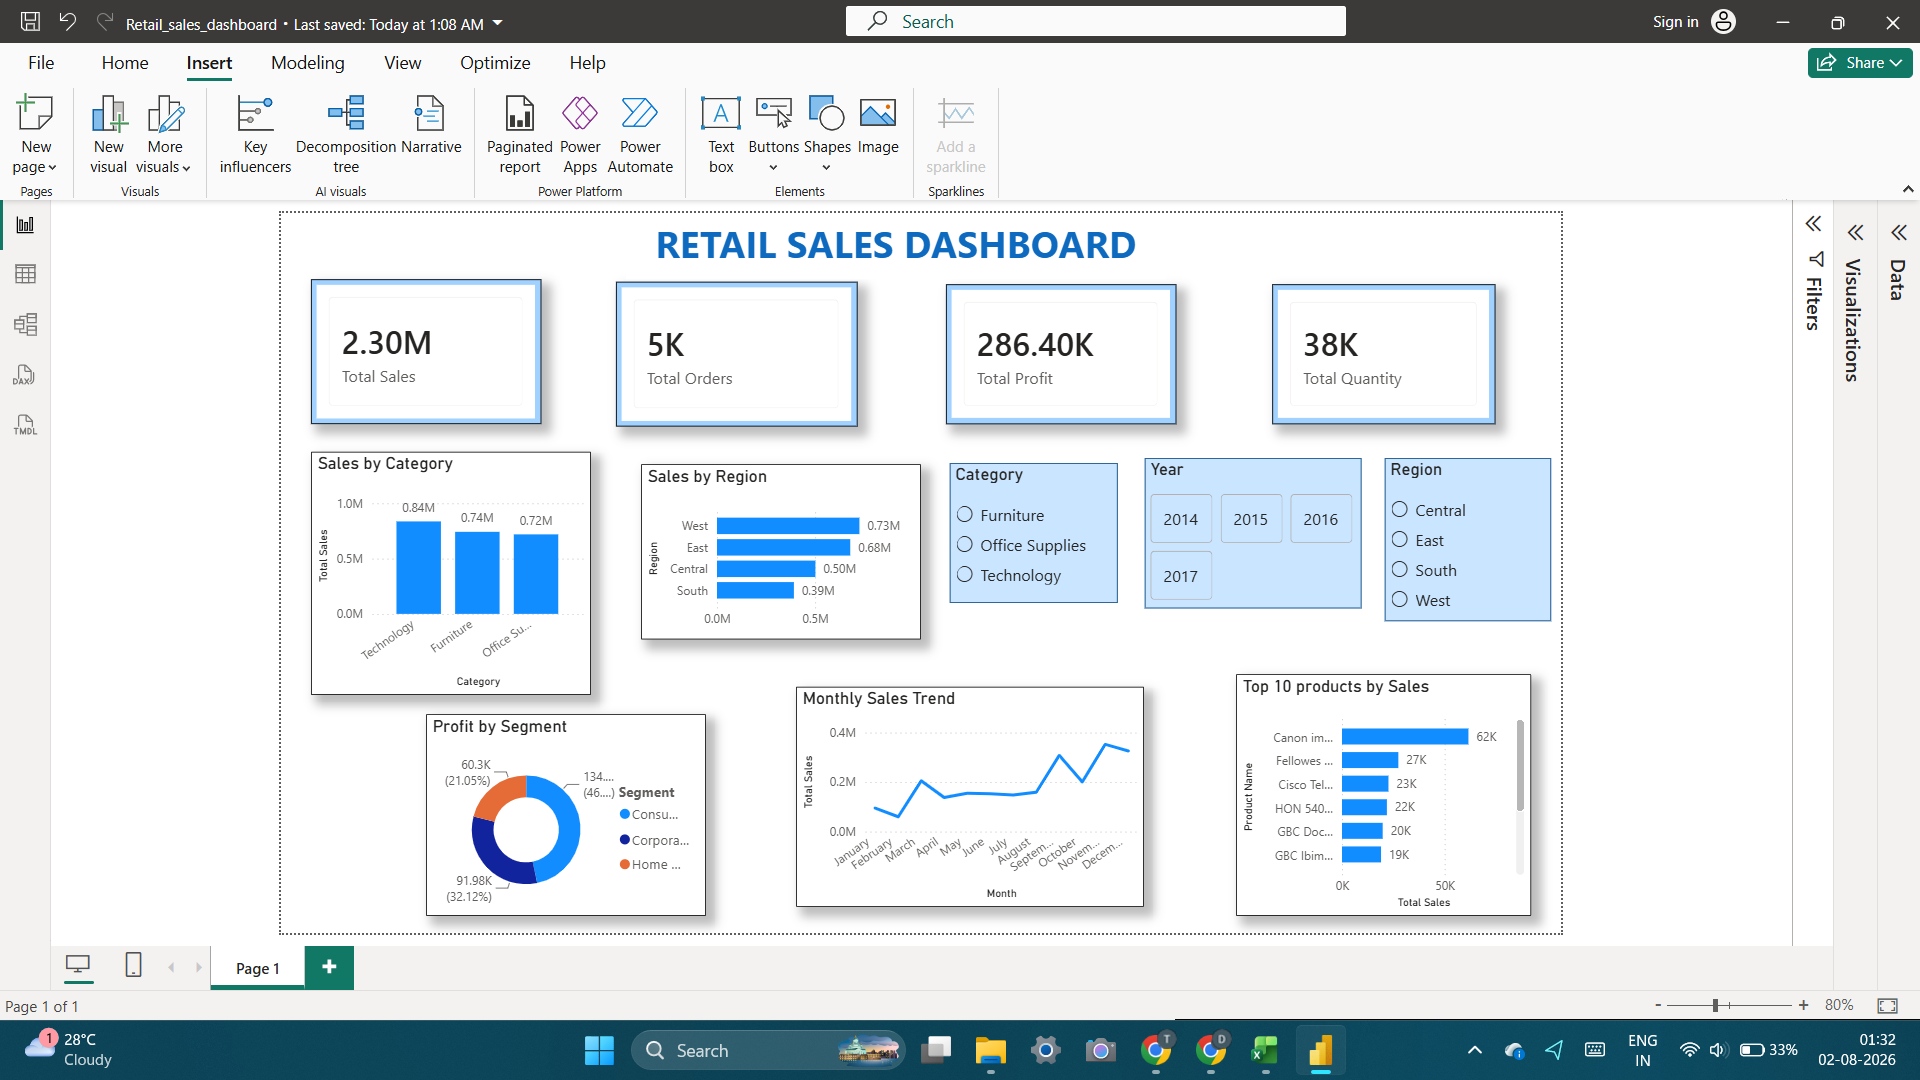

Layout of this report page (visuals, bound fields, positions):
{"tool":"powerbi","page":{"name":"Page 1","canvas":[1280,720],"ordinal":0},"visuals":[{"type":"cardVisual","fields":{"Data":["Table1.Total Sales"]},"box":[30,66.7,230,145],"z":0},{"type":"cardVisual","fields":{"Data":["Table1.Total Profit"]},"box":[665,71.7,230,140],"z":1000},{"type":"cardVisual","fields":{"Data":["Table1.Total Quantity"]},"box":[991.7,71.7,223.3,140],"z":2000},{"type":"cardVisual","fields":{"Data":["Table1.Total Orders"]},"box":[335,68.3,241.7,145],"z":3000},{"type":"clusteredColumnChart","title":" Sales by Category","fields":{"Category":["Table1.Category"],"Y":["Table1.Total Sales"]},"box":[30,238.3,280,243.3],"z":4000},{"type":"clusteredBarChart","title":"Sales by Region","fields":{"Y":["Table1.Total Sales"],"Category":["Table1.Region"]},"box":[360,251.7,280,175],"z":5000},{"type":"lineChart","title":"Monthly Sales Trend","fields":{"Category":["Table1.Order Date.Variation.Date Hierarchy.Month"],"Y":["Table1.Total Sales"]},"box":[515,473.3,348.3,220],"z":6000},{"type":"donutChart","title":"Profit by Segment","fields":{"Y":["Table1.Total Profit"],"Category":["Table1.Segment"]},"box":[145,501.7,280,201.7],"z":7000},{"type":"barChart","title":"Top 10 products by Sales","fields":{"Category":["Table1.Product Name"],"Y":["Table1.Total Sales"]},"box":[955,461.7,295,241.7],"z":8000},{"type":"listSlicer","fields":{"Values":["Table1.Region"]},"box":[1103.3,245,166.7,163.3],"z":9000},{"type":"listSlicer","fields":{"Values":["Table1.Category"]},"box":[668.3,250,168.3,140],"z":10000},{"type":"advancedSlicerVisual","fields":{"Values":["Table1.Order Date.Variation.Date Hierarchy.Year"]},"box":[863.3,245,216.7,150],"z":11000},{"type":"textbox","box":[345,0,540,66.7],"z":12000}]}

Visuals, with their boxes on the page's 1280x720 design canvas (x1, y1, x2, y2). These are canvas units, not pixel positions in the 1920x1080 screenshot, which may show the page scaled, cropped or inside an application window:
cardVisual - Table1.Total Sales: (x1=30, y1=67, x2=260, y2=212)
cardVisual - Table1.Total Profit: (x1=665, y1=72, x2=895, y2=212)
cardVisual - Table1.Total Quantity: (x1=992, y1=72, x2=1215, y2=212)
cardVisual - Table1.Total Orders: (x1=335, y1=68, x2=577, y2=213)
" Sales by Category" clusteredColumnChart: (x1=30, y1=238, x2=310, y2=482)
"Sales by Region" clusteredBarChart: (x1=360, y1=252, x2=640, y2=427)
"Monthly Sales Trend" lineChart: (x1=515, y1=473, x2=863, y2=693)
"Profit by Segment" donutChart: (x1=145, y1=502, x2=425, y2=703)
"Top 10 products by Sales" barChart: (x1=955, y1=462, x2=1250, y2=703)
listSlicer - Table1.Region: (x1=1103, y1=245, x2=1270, y2=408)
listSlicer - Table1.Category: (x1=668, y1=250, x2=837, y2=390)
advancedSlicerVisual - Table1.Order Date.Variation.Date Hierarchy.Year: (x1=863, y1=245, x2=1080, y2=395)
textbox: (x1=345, y1=0, x2=885, y2=67)
